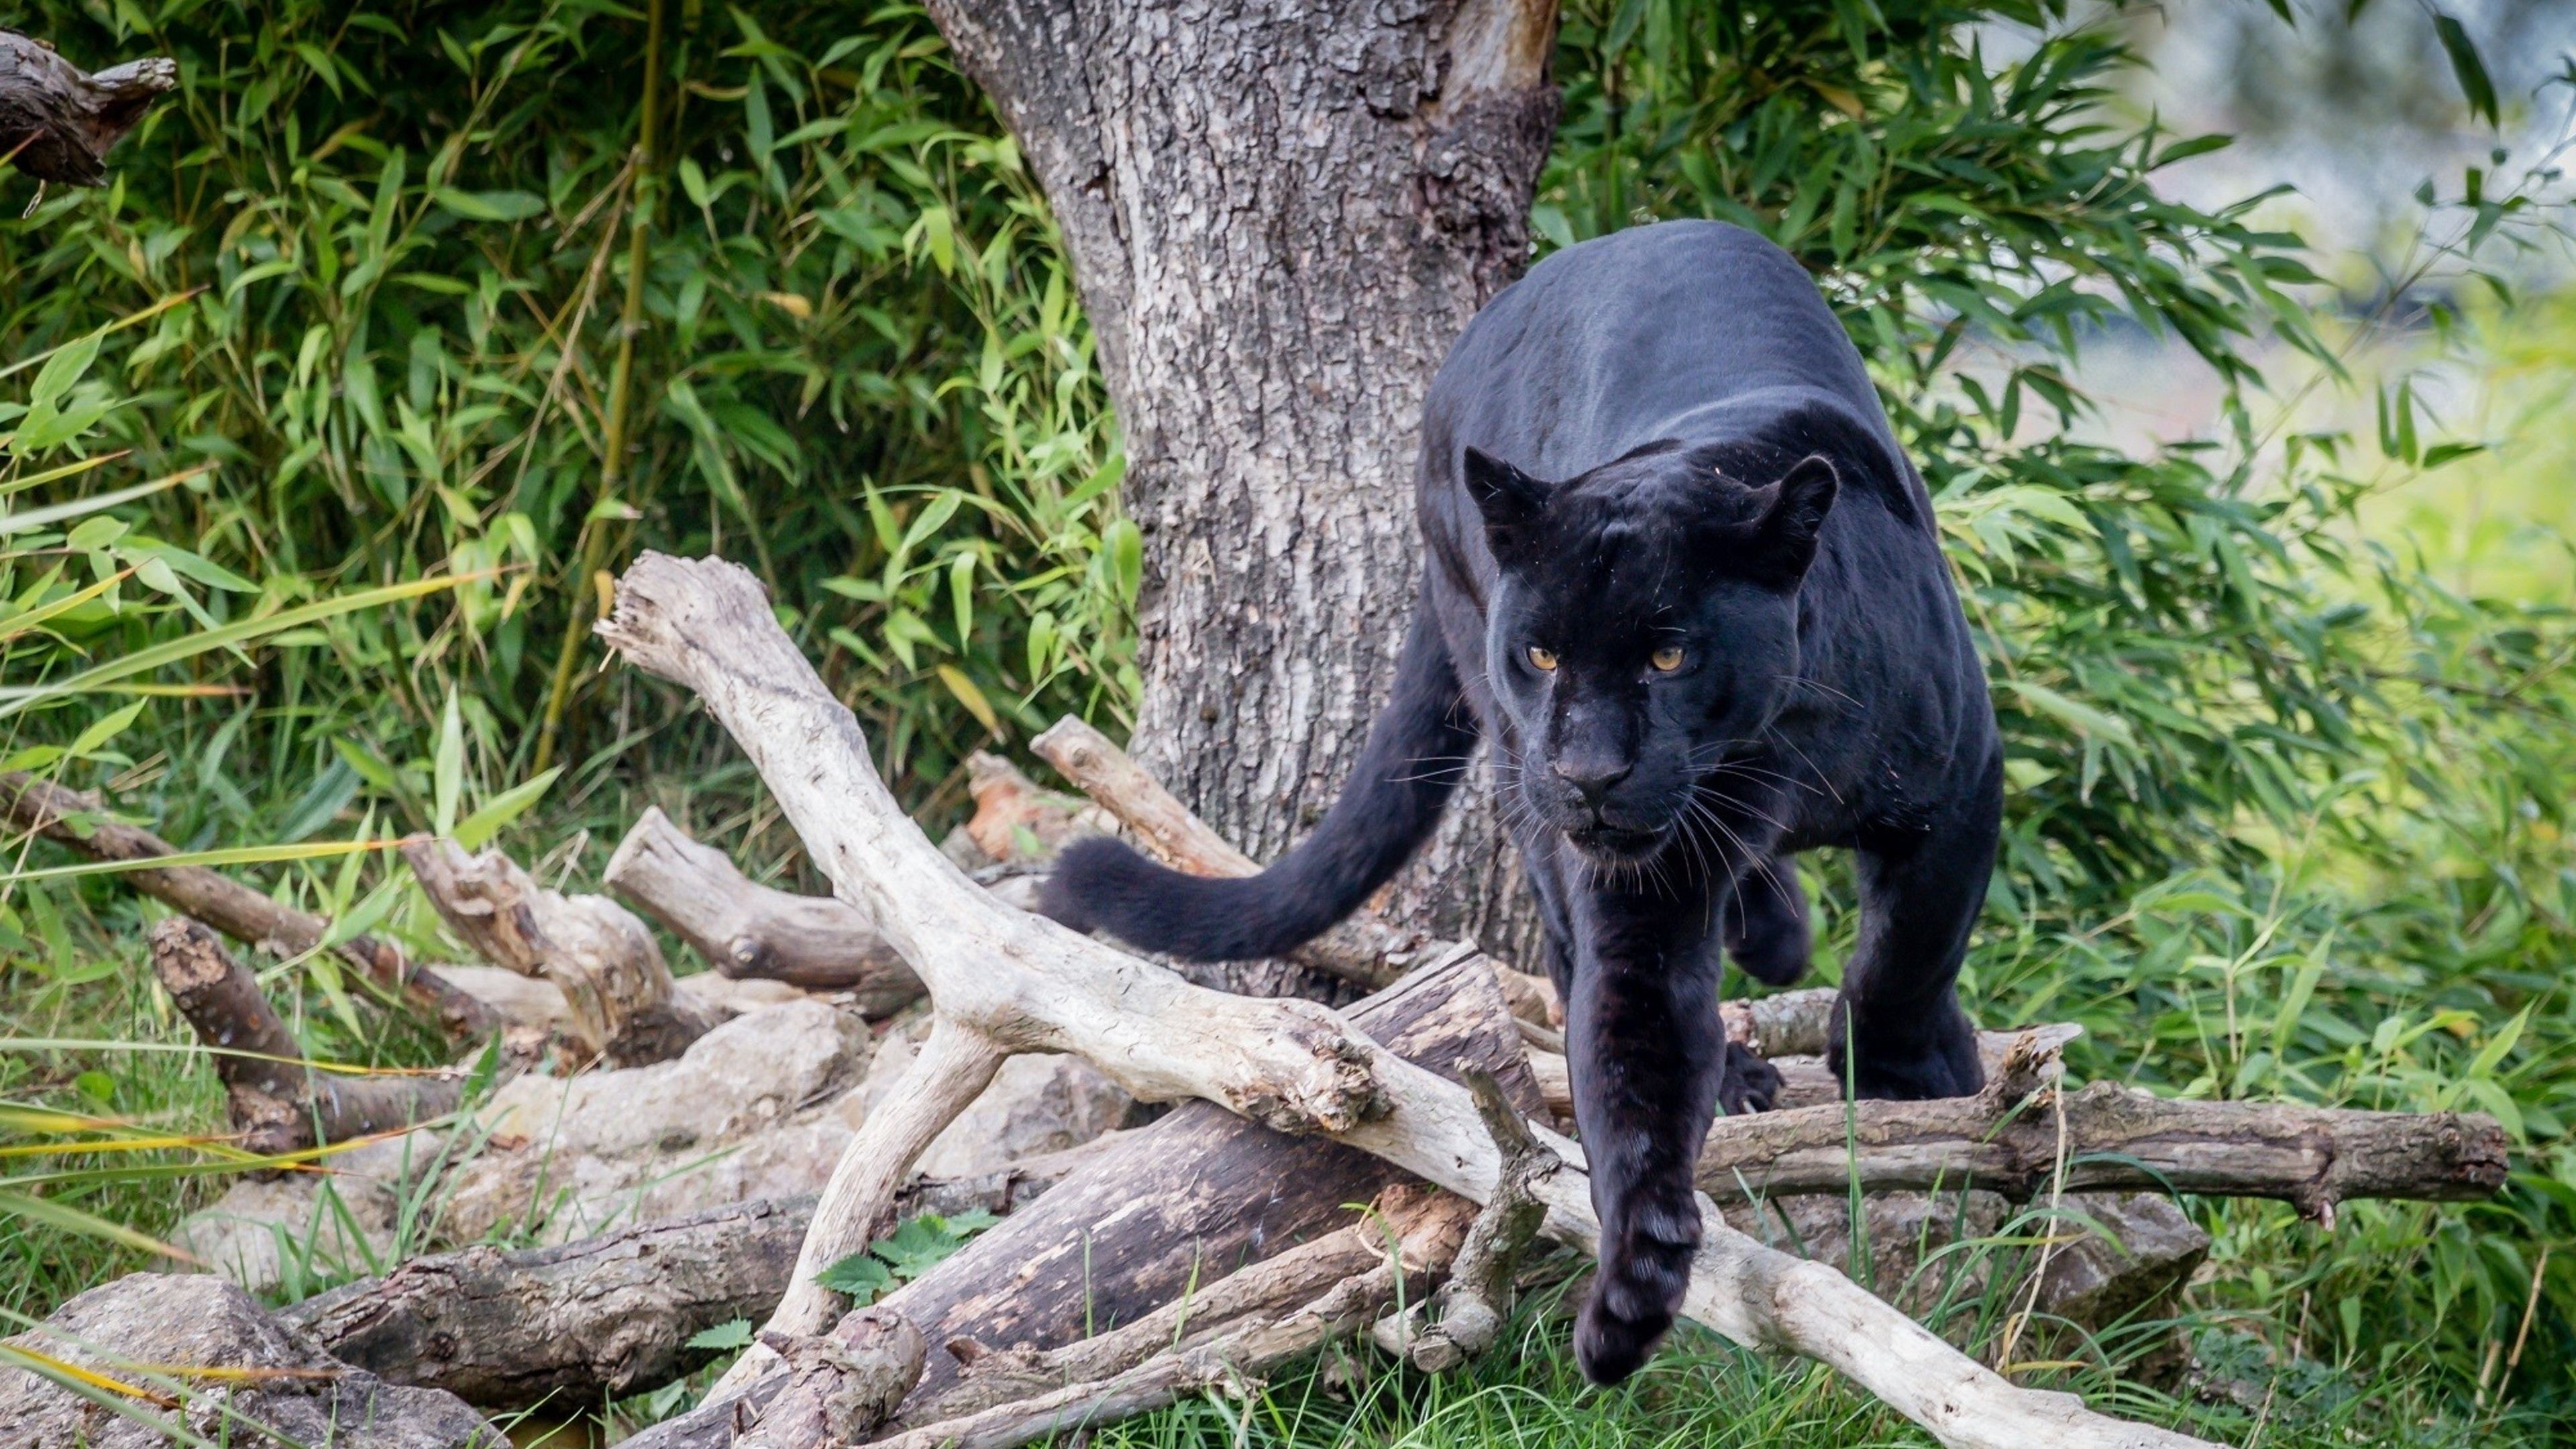panther: (1415, 432, 1859, 908)
